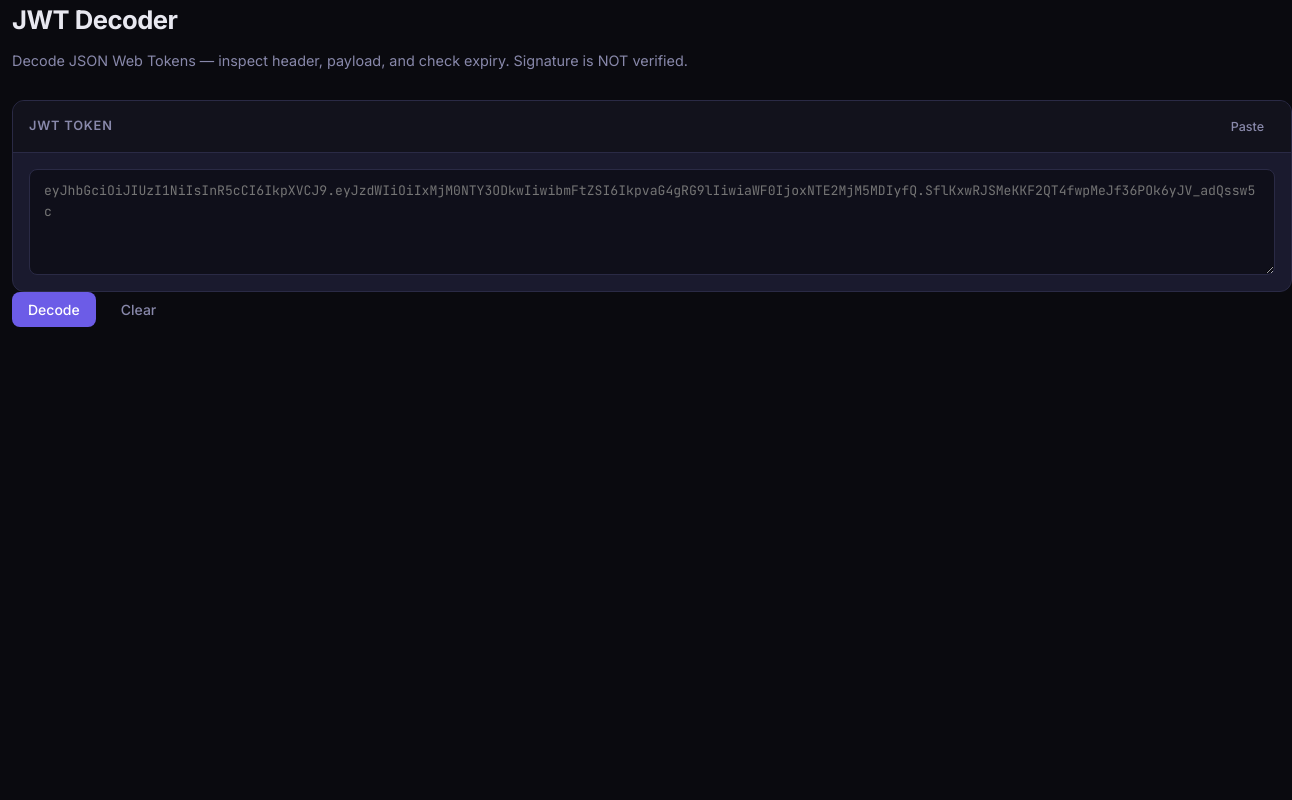
JwtDecoder › clear resets everything
Replace the text in the text box with "eyJhbGciOiJIUzI1NiIsInR5cCI6IkpXVCJ9.eyJzdWIiOiIxMjM0NTY3ODkwIiwibmFtZSI6IkpvaG4gRG9lIiwiaWF0IjoxNTE2MjM5MDIyfQ.SflKxwRJSMeKKF2QT4fwpMeJf36POk6yJV_adQssw5c": (652, 222) x1=29 y1=169 x2=1275 y2=275
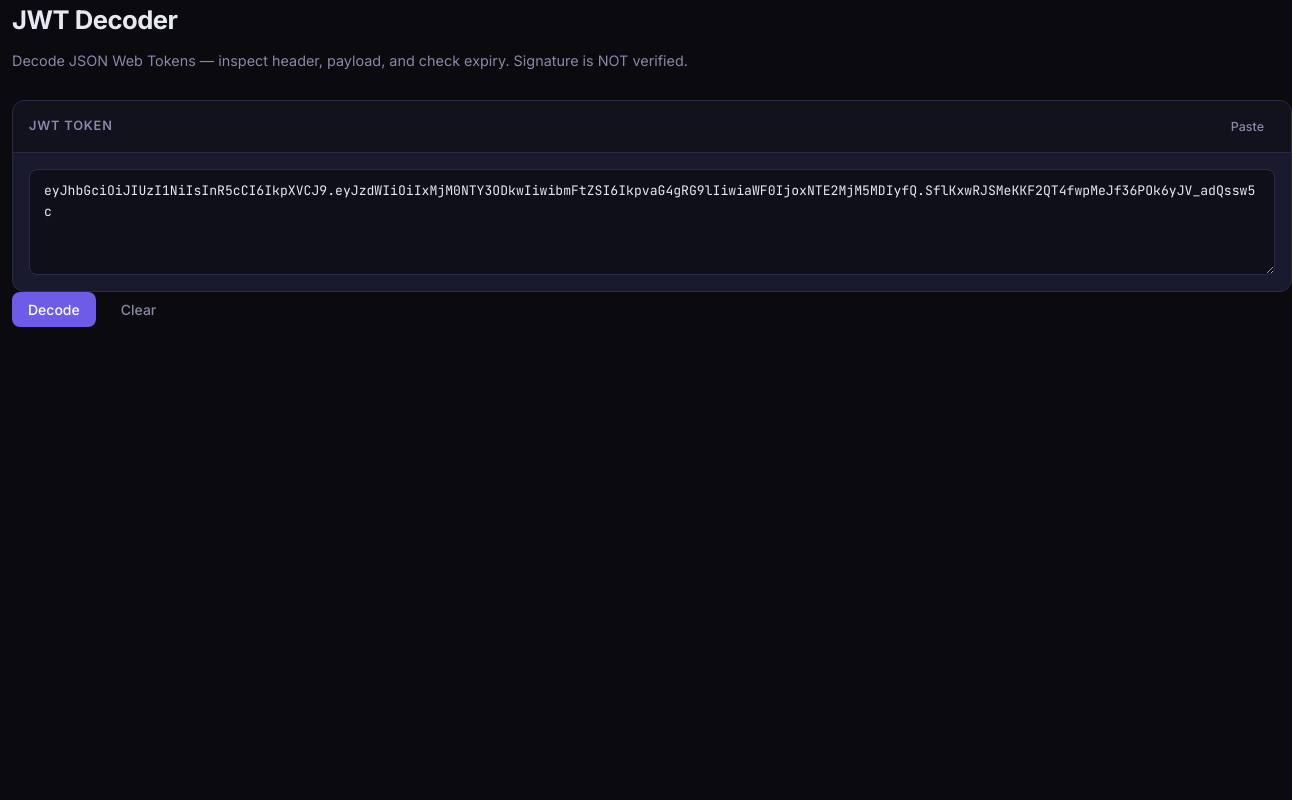
Click the button "Decode": click(54, 309) x1=12 y1=292 x2=96 y2=327
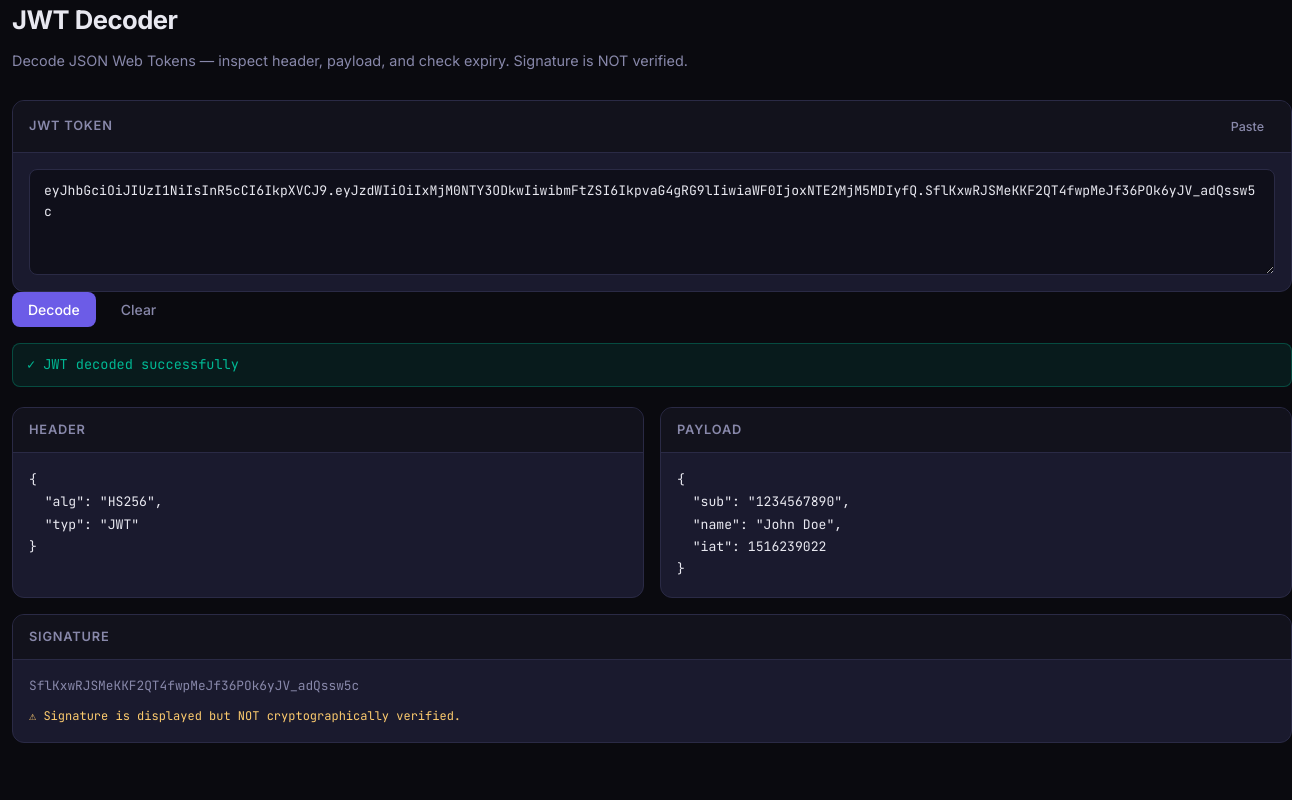
Result: the heading "Header" is shown at x1=29 y1=420 x2=86 y2=440
Click the button "Clear": click(139, 309) x1=104 y1=292 x2=173 y2=327
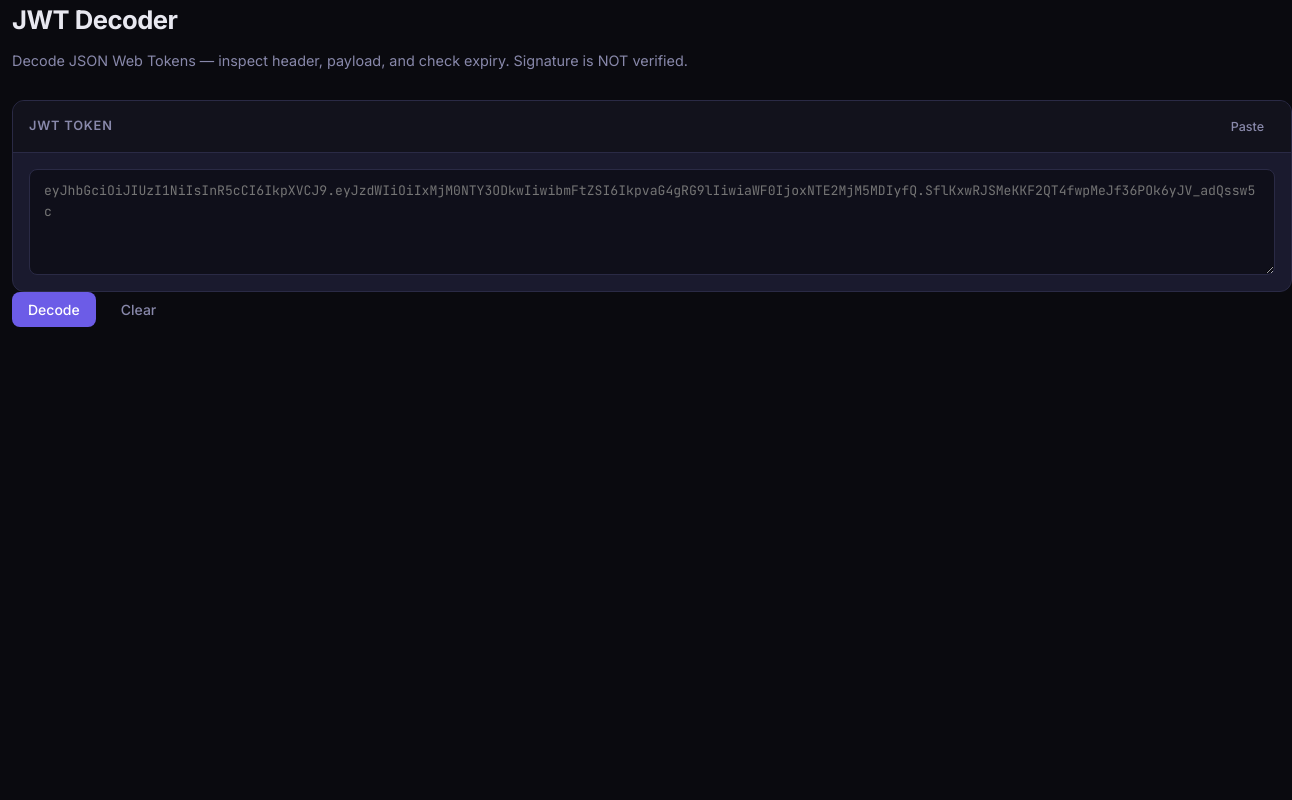
Result: the text box is empty at x1=29 y1=169 x2=1275 y2=275
